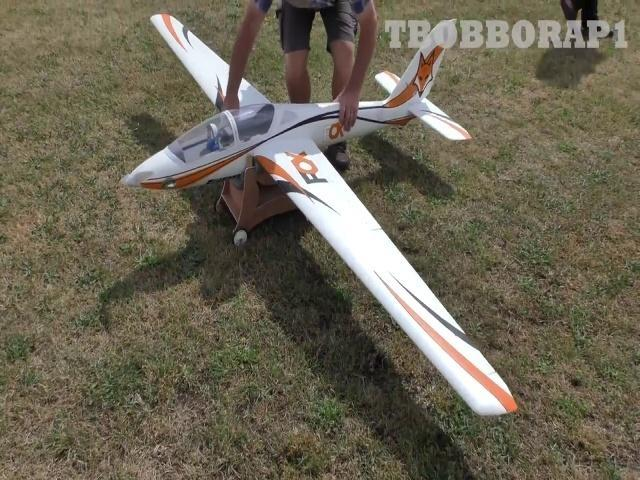Airplane: (120, 14, 519, 415)
